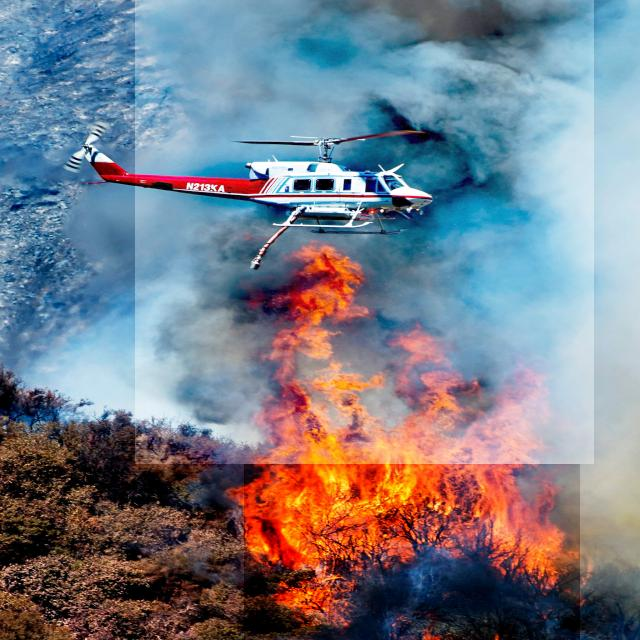Fire: (244, 238, 580, 640)
Smoke: (135, 0, 594, 464)
